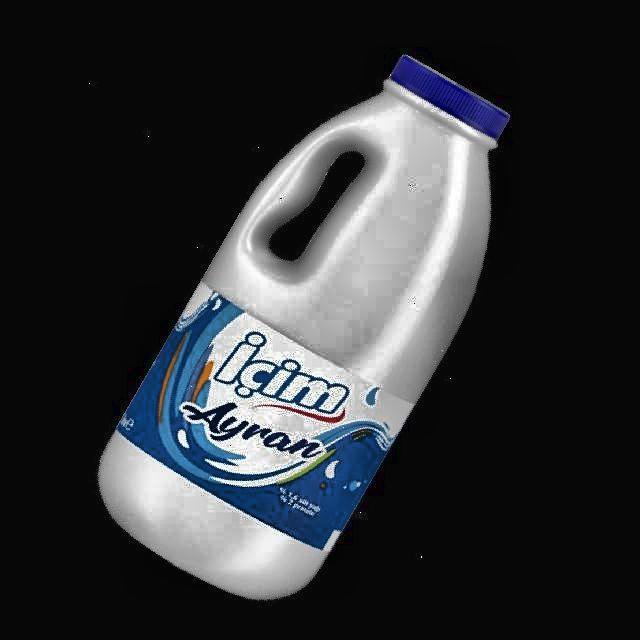plastic: (99, 56, 509, 598)
